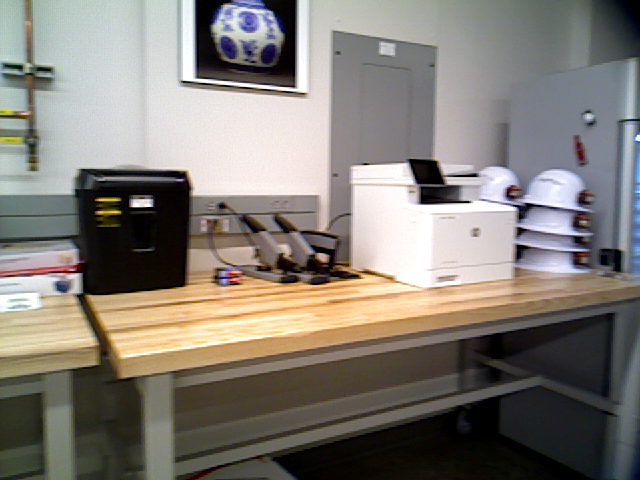painting2: (175, 1, 311, 95)
